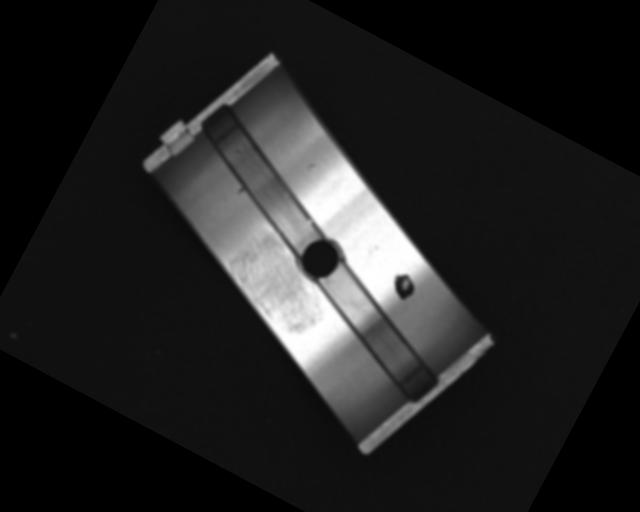blot: (385, 269, 420, 304)
bruise: (234, 181, 249, 198), (305, 160, 318, 174)
gap: (171, 100, 362, 268), (282, 251, 468, 416)
hole: (287, 224, 352, 291)
scratch: (212, 218, 350, 346)
